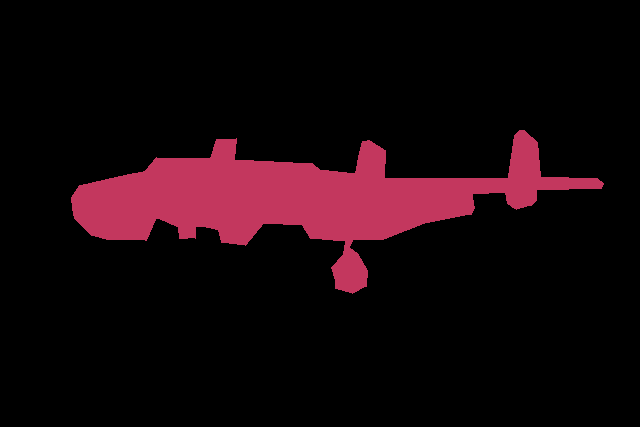Airplane: (71, 130, 604, 294)
